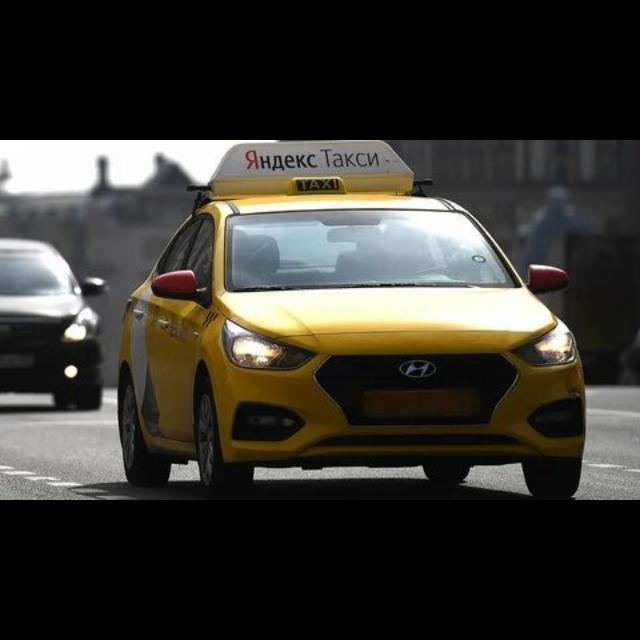taxi: (116, 142, 588, 499)
